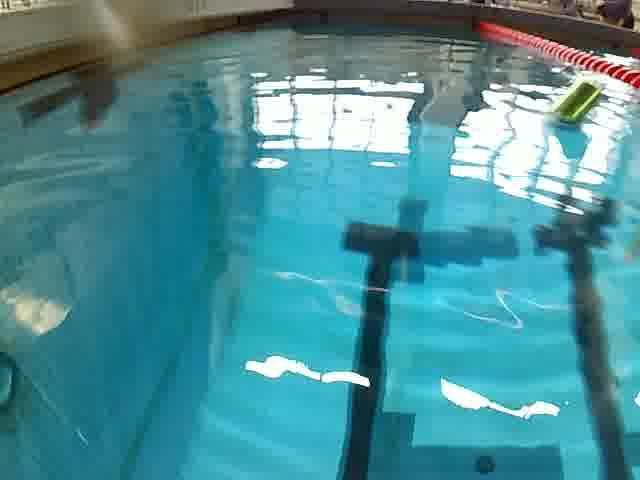Can: (550, 76, 604, 128)
